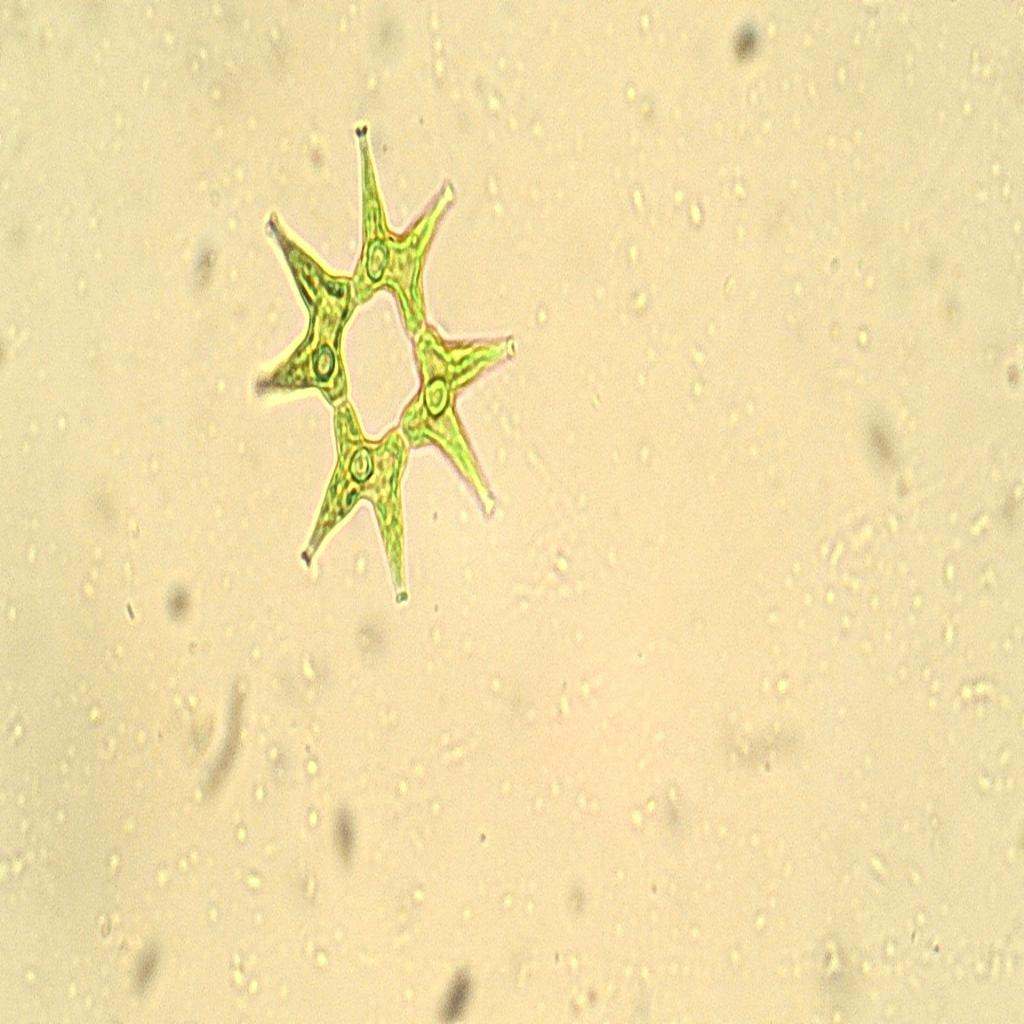Pediastrum_75O: (241, 118, 518, 625)
